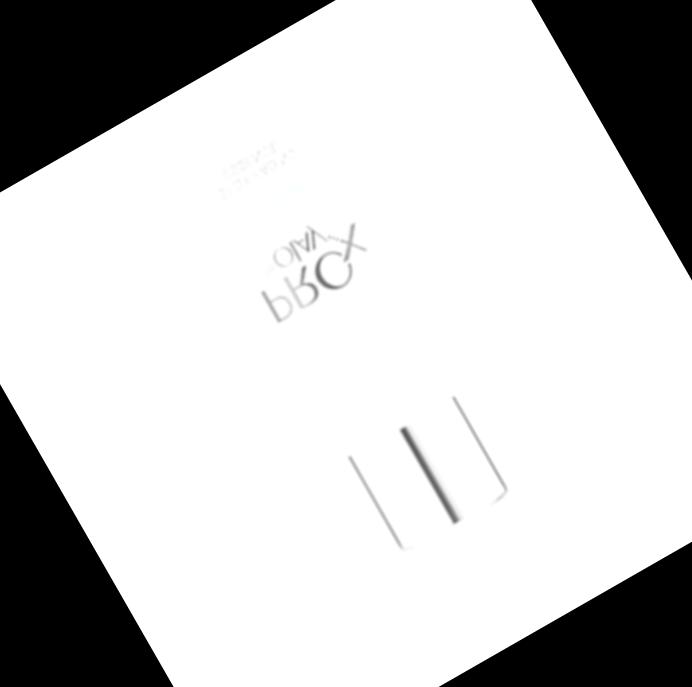cosmetic: (153, 71, 581, 647)
